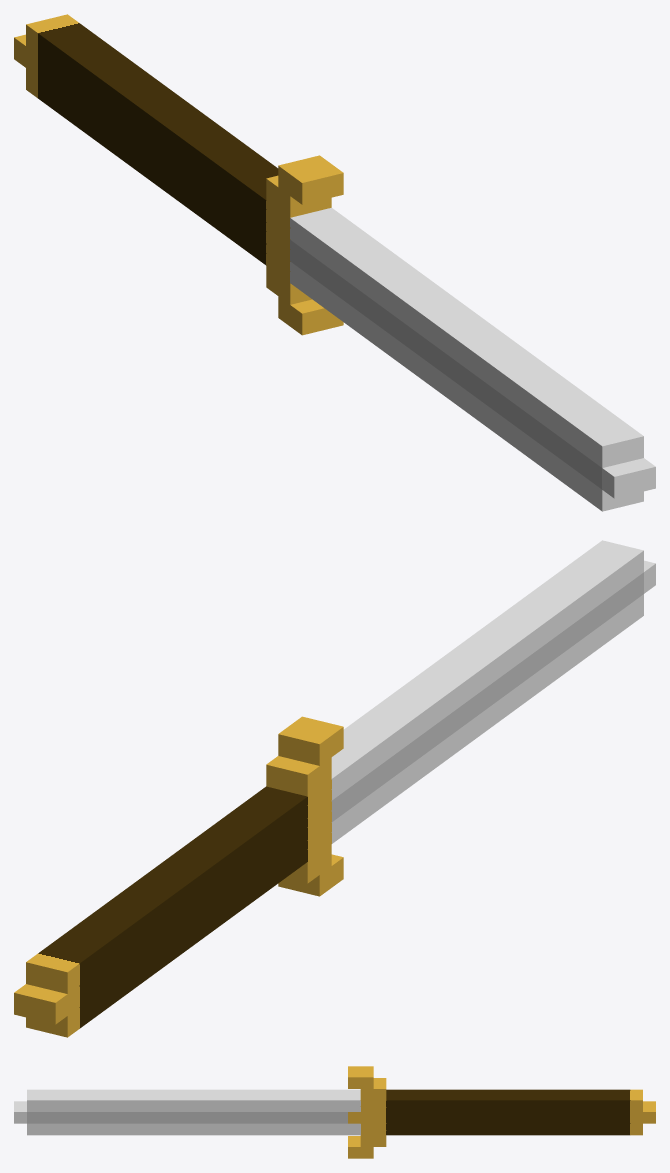
The model's file is Knife_C.fbx.
3 renders of one model, top to bottom at view 1: azimuth 30°, elevation 25°; view 2: azimuth 150°, elevation 25°; view 3: azimuth 270°, elevation 25°, orthographic. The views are drawn at different scales.
Parts seen in each view (by area): view 1: Matrix; view 2: Matrix; view 3: Matrix.
Part boxes in pixels (x1=…): Matrix: x1=14, y1=14, x2=655, y2=511; Matrix: x1=14, y1=540, x2=655, y2=1037; Matrix: x1=14, y1=1066, x2=655, y2=1158.
Bounding box in the file's own units: 2 × 7 × 50.
1 material, 1 textured.
